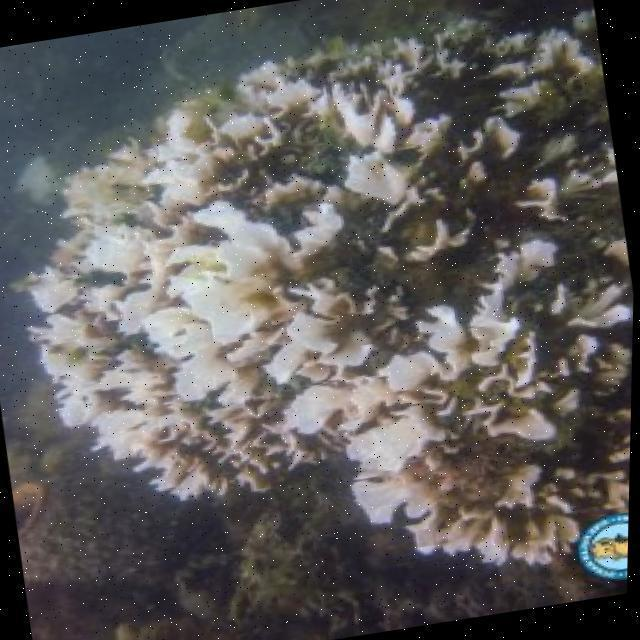Bleached Coral: (38, 32, 578, 528)
